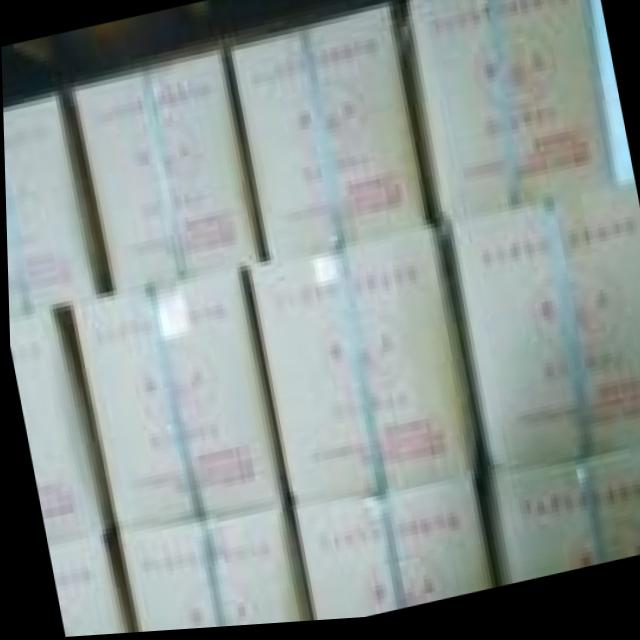box: (243, 240, 473, 507), (445, 191, 640, 476), (71, 274, 281, 531), (397, 0, 616, 244), (228, 11, 428, 267), (75, 46, 259, 296), (291, 480, 495, 625), (3, 93, 110, 319), (7, 309, 109, 542), (114, 510, 303, 634), (474, 456, 640, 589), (48, 519, 134, 637)
